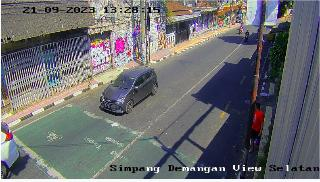mobil: (95, 68, 158, 116)
motor: (244, 30, 250, 46)
